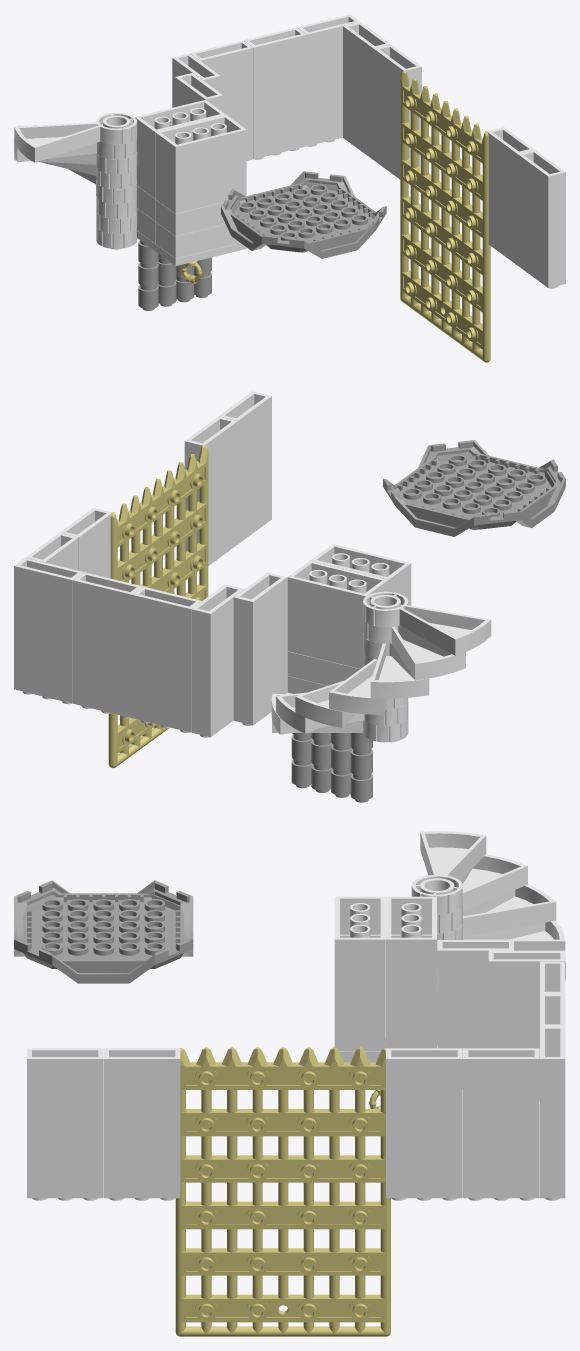
The model's file is key.glb.
3 views of the same model, one above another, from view 1: azimuth 30°, elevation 25°; view 2: azimuth 150°, elevation 25°; view 3: azimuth 270°, elevation 25° (orthographic). The views are drawn at different scales.
Visible parts, largest first — view 1: Part-3755_dot_dat (×9), Part-89513_dot_dat, Part-30144_dot_dat (×2), Part-67929_dot_dat, Part-40243c01_dot_dat, Part-3001_dot_dat (×2), Part-3062b_dot_dat (×3), Part-6179_dot_dat; view 2: Part-3755_dot_dat (×9), Part-40243c01_dot_dat, Part-89513_dot_dat, Part-67929_dot_dat, Part-30144_dot_dat (×2), Part-3062b_dot_dat (×6), Part-3001_dot_dat; view 3: Part-3755_dot_dat (×9), Part-89513_dot_dat, Part-67929_dot_dat, Part-30144_dot_dat (×2), Part-40243c01_dot_dat, Part-3001_dot_dat (×2).
Part boxes in pixels (x1,y1,x2,y2): Part-3755_dot_dat (×9): (172, 14, 565, 288); Part-89513_dot_dat: (400, 71, 490, 362); Part-30144_dot_dat (×2): (135, 100, 246, 213); Part-67929_dot_dat: (221, 171, 386, 258); Part-40243c01_dot_dat: (14, 112, 137, 249); Part-3001_dot_dat (×2): (155, 199, 240, 258); Part-3062b_dot_dat (×3): (138, 262, 176, 310); Part-6179_dot_dat: (137, 230, 246, 265); Part-3755_dot_dat (×9): (14, 391, 286, 737); Part-40243c01_dot_dat: (271, 591, 491, 742); Part-89513_dot_dat: (108, 445, 208, 768); Part-67929_dot_dat: (383, 440, 565, 536); Part-30144_dot_dat (×2): (287, 544, 411, 668); Part-3062b_dot_dat (×6): (291, 734, 372, 802); Part-3001_dot_dat: (287, 651, 359, 685); Part-3755_dot_dat (×9): (27, 940, 565, 1200); Part-89513_dot_dat: (175, 1047, 390, 1336); Part-67929_dot_dat: (14, 880, 193, 983); Part-30144_dot_dat (×2): (334, 896, 436, 1023); Part-40243c01_dot_dat: (411, 831, 565, 1044); Part-3001_dot_dat (×2): (334, 1023, 436, 1050).
Size of the model in its own units: 16.81 by 9.91 by 17.21.
